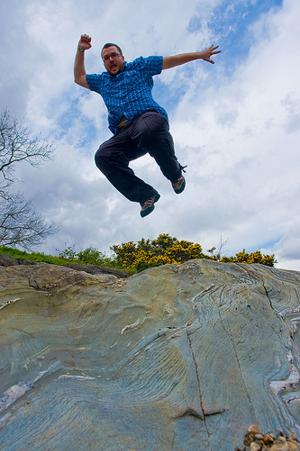person: (73, 30, 219, 214)
